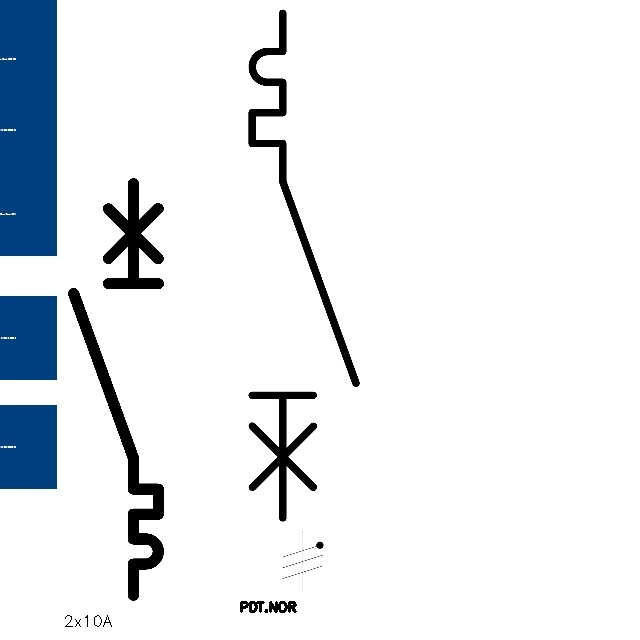interruptor_termomagnetico: (239, 0, 369, 531), (63, 173, 169, 606)
